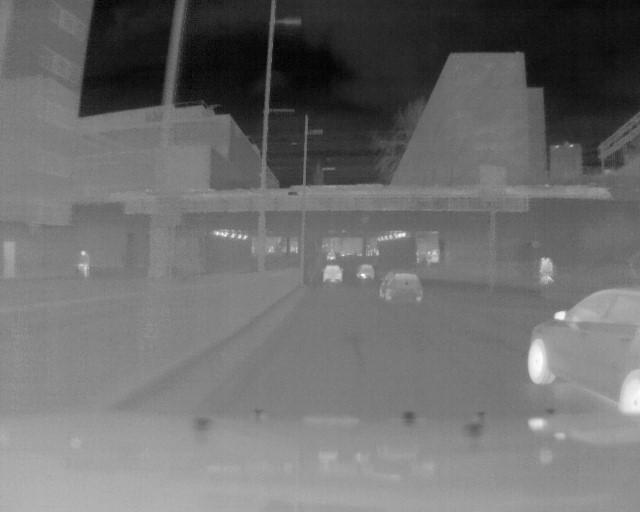car: (529, 294, 640, 415), (381, 270, 424, 307), (322, 264, 346, 285), (356, 262, 376, 280)
person: (538, 255, 557, 290), (78, 249, 92, 281)
